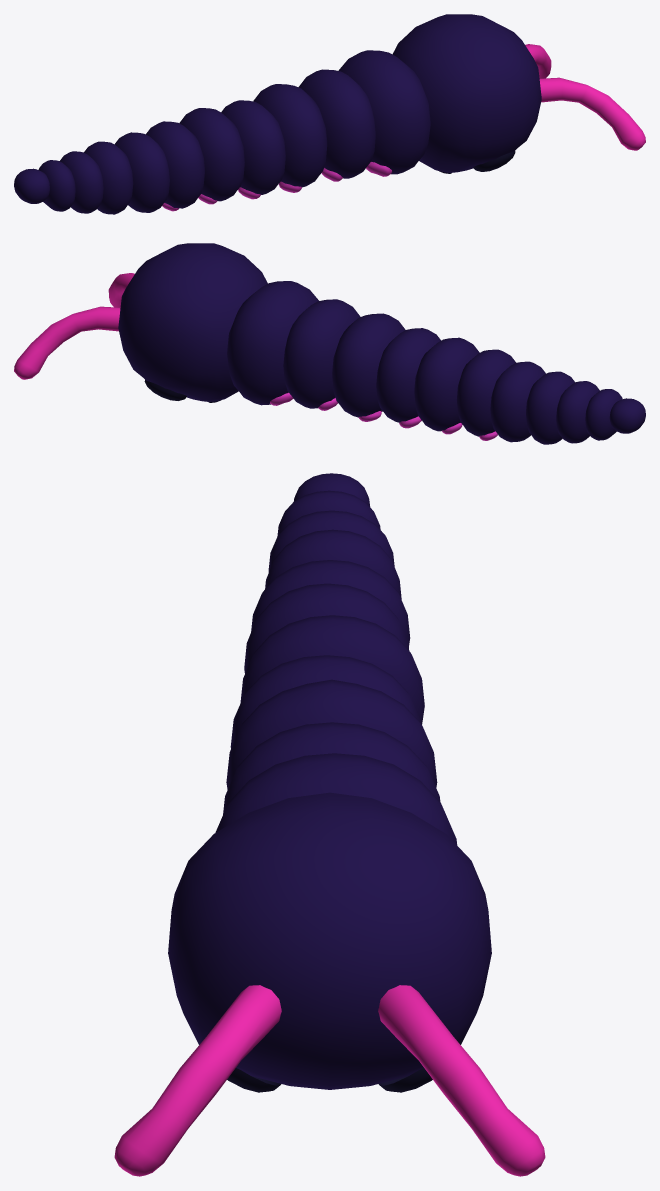
Rendered from worm_wip2.fbx.
The picture shows the model from 3 angles, top to bottom: view 1: azimuth 30°, elevation 25°; view 2: azimuth 150°, elevation 25°; view 3: azimuth 270°, elevation 25°; orthographic projection. The views are drawn at different scales.
Visible parts, largest first — view 1: head, body_1, body_2, body_3, body_4, body_5, antenna, body_6, body_7, body_8, body_9, body_10 (+2 smaller); view 2: head, body_1, body_2, body_3, body_5, body_4, antenna, body_6, body_7, body_8, body_9, body_10 (+2 smaller); view 3: head, antenna, body_1, body_3, body_5, body_2, body_6, body_4, body_7, body_8, body_9, body_10 (+2 smaller).
Part boxes in pixels (left/top/right/bottom): head: left=392, top=14, right=541, bottom=172; body_1: left=338, top=50, right=430, bottom=174; body_2: left=298, top=69, right=375, bottom=178; body_3: left=253, top=84, right=327, bottom=187; body_4: left=221, top=100, right=285, bottom=194; body_5: left=179, top=108, right=244, bottom=201; antenna: left=525, top=44, right=645, bottom=150; body_6: left=146, top=121, right=204, bottom=208; body_7: left=114, top=132, right=169, bottom=212; body_8: left=84, top=141, right=133, bottom=214; body_9: left=60, top=151, right=103, bottom=213; body_10: left=38, top=160, right=75, bottom=211; head: left=118, top=243, right=267, bottom=401; body_1: left=227, top=281, right=318, bottom=405; body_2: left=283, top=299, right=360, bottom=408; body_3: left=332, top=313, right=405, bottom=417; body_5: left=414, top=337, right=479, bottom=431; body_4: left=376, top=328, right=440, bottom=422; antenna: left=14, top=273, right=134, bottom=379; body_6: left=456, top=349, right=516, bottom=436; body_7: left=490, top=361, right=545, bottom=442; body_8: left=526, top=371, right=575, bottom=444; body_9: left=556, top=381, right=599, bottom=443; body_10: left=585, top=389, right=622, bottom=440; head: left=168, top=792, right=491, bottom=1089; antenna: left=114, top=985, right=545, bottom=1176; body_1: left=215, top=753, right=457, bottom=845; body_3: left=226, top=679, right=437, bottom=789; body_5: left=240, top=615, right=424, bottom=724; body_2: left=223, top=722, right=440, bottom=814; body_6: left=244, top=583, right=409, bottom=673; body_4: left=230, top=655, right=420, bottom=748; body_7: left=251, top=560, right=410, bottom=646; body_8: left=265, top=529, right=401, bottom=599; body_9: left=268, top=510, right=394, bottom=572; body_10: left=277, top=490, right=380, bottom=536.
Size of the model in its own units: 1075 by 248 by 347.
